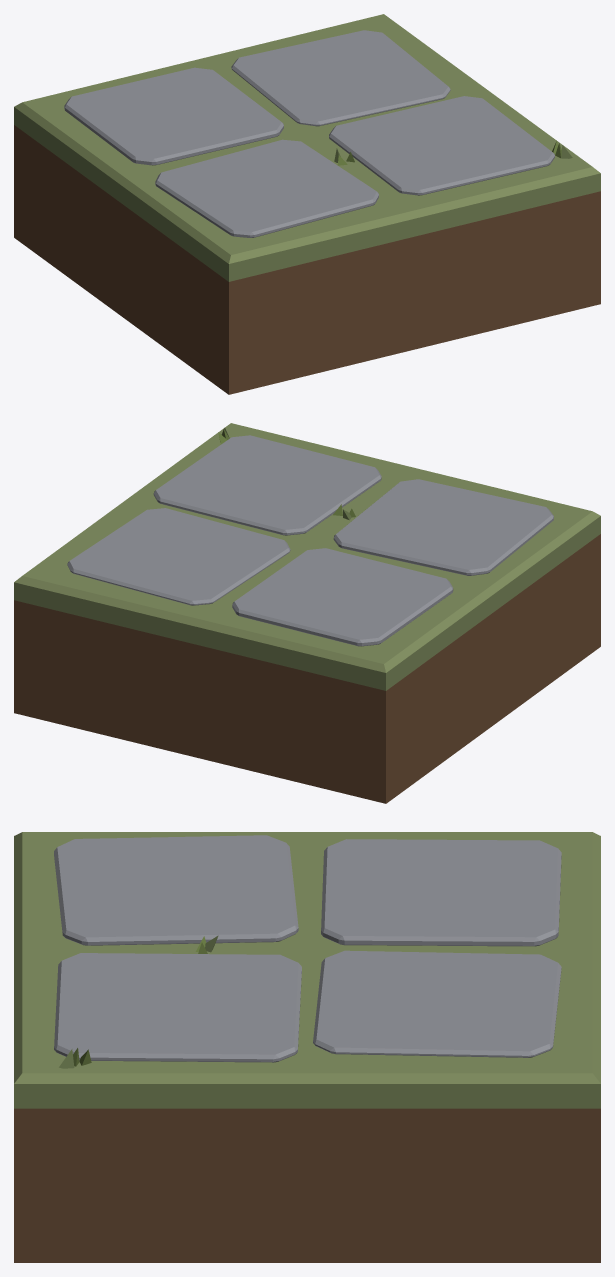
Rendered from Build Ground A.fbx.
3 views of the same model, one above another, from view 1: azimuth 30°, elevation 25°; view 2: azimuth 150°, elevation 25°; view 3: azimuth 270°, elevation 25° (orthographic). The views are drawn at different scales.
Visible parts, largest first — view 1: Build Ground A; view 2: Build Ground A; view 3: Build Ground A.
Boxes of the visible parts, x1=… form: Build Ground A: x1=14, y1=14, x2=600, y2=394; Build Ground A: x1=14, y1=423, x2=600, y2=803; Build Ground A: x1=14, y1=832, x2=600, y2=1262.
Bounding box in the file's own units: 1 × 0.3823 × 1.
